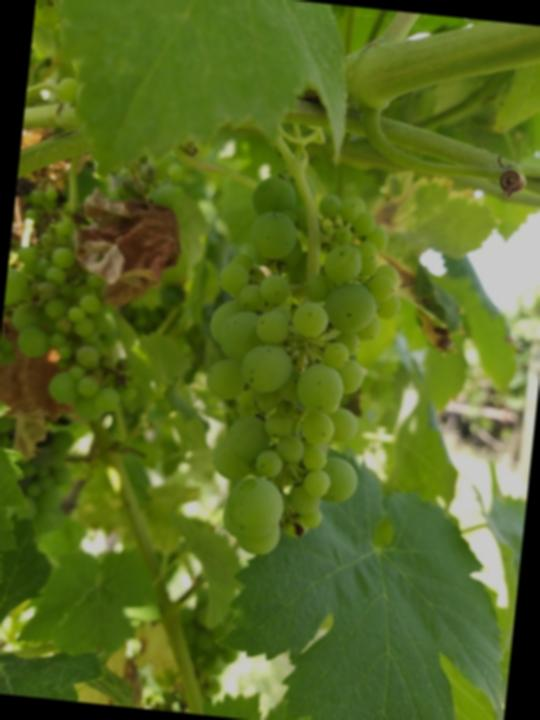grape: (179, 164, 417, 566)
